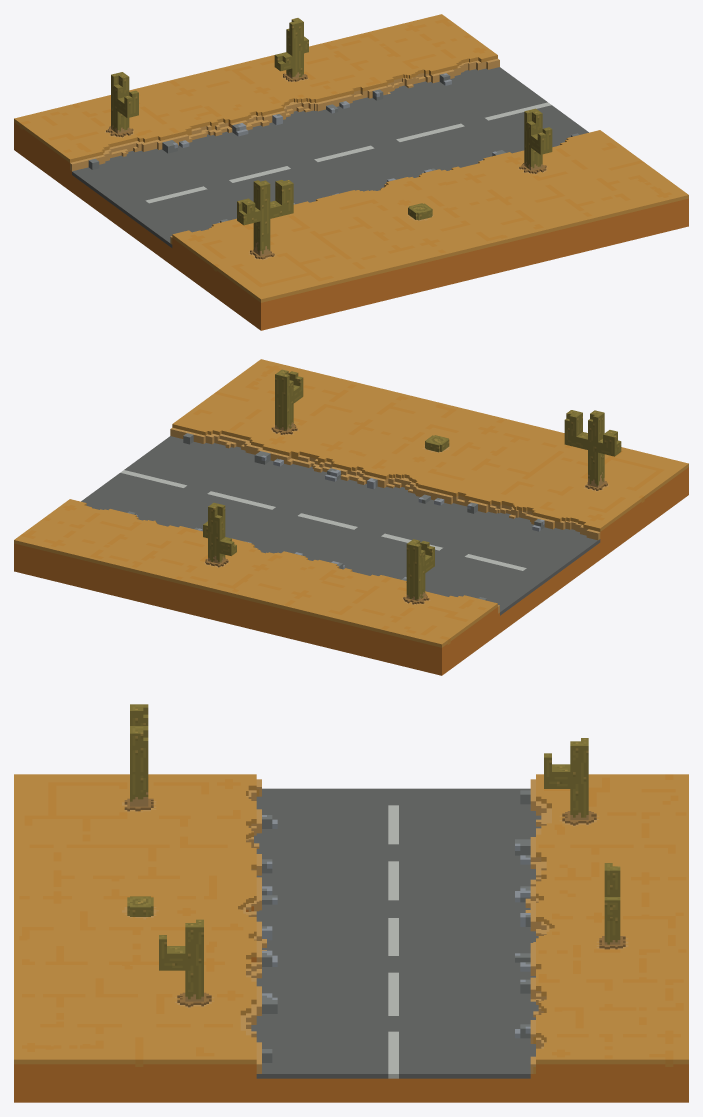
The model's file is cactus.fbx.
The picture shows the model from 3 angles, top to bottom: view 1: azimuth 30°, elevation 25°; view 2: azimuth 150°, elevation 25°; view 3: azimuth 270°, elevation 25°; orthographic projection. The views are drawn at different scales.
Parts seen in each view (by area): view 1: ObjObject; view 2: ObjObject; view 3: ObjObject.
Boxes of the visible parts, x1,y1,x2,y2 form: ObjObject: (14, 14, 688, 330); ObjObject: (14, 359, 688, 675); ObjObject: (14, 704, 688, 1102).
Bounding box in the file's own units: 2560 × 590 × 2560.
1 material, 1 textured.
